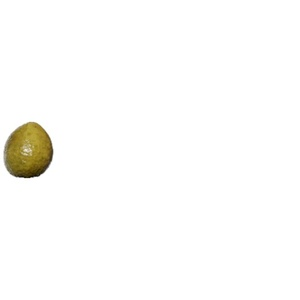goiaba: (3, 124, 55, 183)
